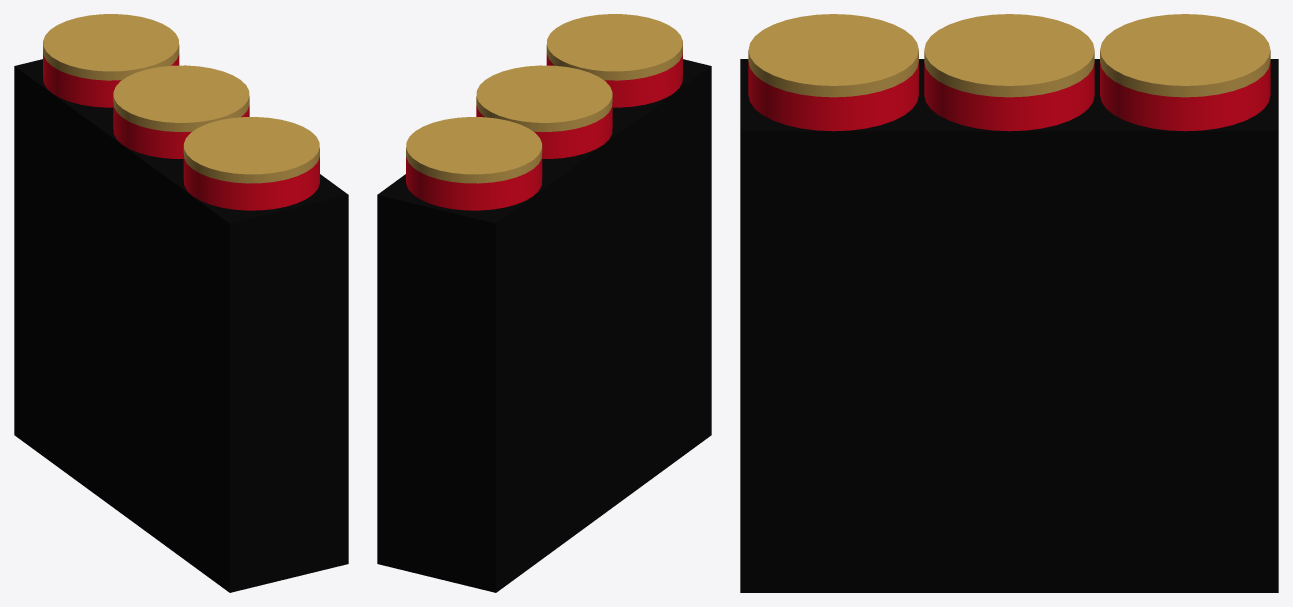
Rendered from ammo.fbx.
3 renders of one model, left to right at view 1: azimuth 30°, elevation 25°; view 2: azimuth 150°, elevation 25°; view 3: azimuth 270°, elevation 25°, orthographic. The views are drawn at different scales.
Visible parts, largest first — view 1: Cube, Cylinder.002, Cylinder, Cylinder.001; view 2: Cube, Cylinder.001, Cylinder, Cylinder.002; view 3: Cube, Cylinder, Cylinder.001, Cylinder.002.
Boxes of the visible parts, x1=… form: Cube: x1=14, y1=59, x2=348, y2=592; Cylinder.002: x1=183, y1=117, x2=319, y2=210; Cylinder: x1=113, y1=65, x2=249, y2=158; Cylinder.001: x1=43, y1=14, x2=179, y2=107; Cube: x1=377, y1=59, x2=711, y2=592; Cylinder.001: x1=406, y1=117, x2=542, y2=210; Cylinder: x1=476, y1=65, x2=612, y2=158; Cylinder.002: x1=546, y1=14, x2=682, y2=107; Cube: x1=740, y1=59, x2=1278, y2=592; Cylinder: x1=924, y1=14, x2=1094, y2=131; Cylinder.001: x1=1100, y1=14, x2=1270, y2=131; Cylinder.002: x1=748, y1=14, x2=918, y2=131.
Bounding box in the file's own units: 67.25 × 220 × 211.
